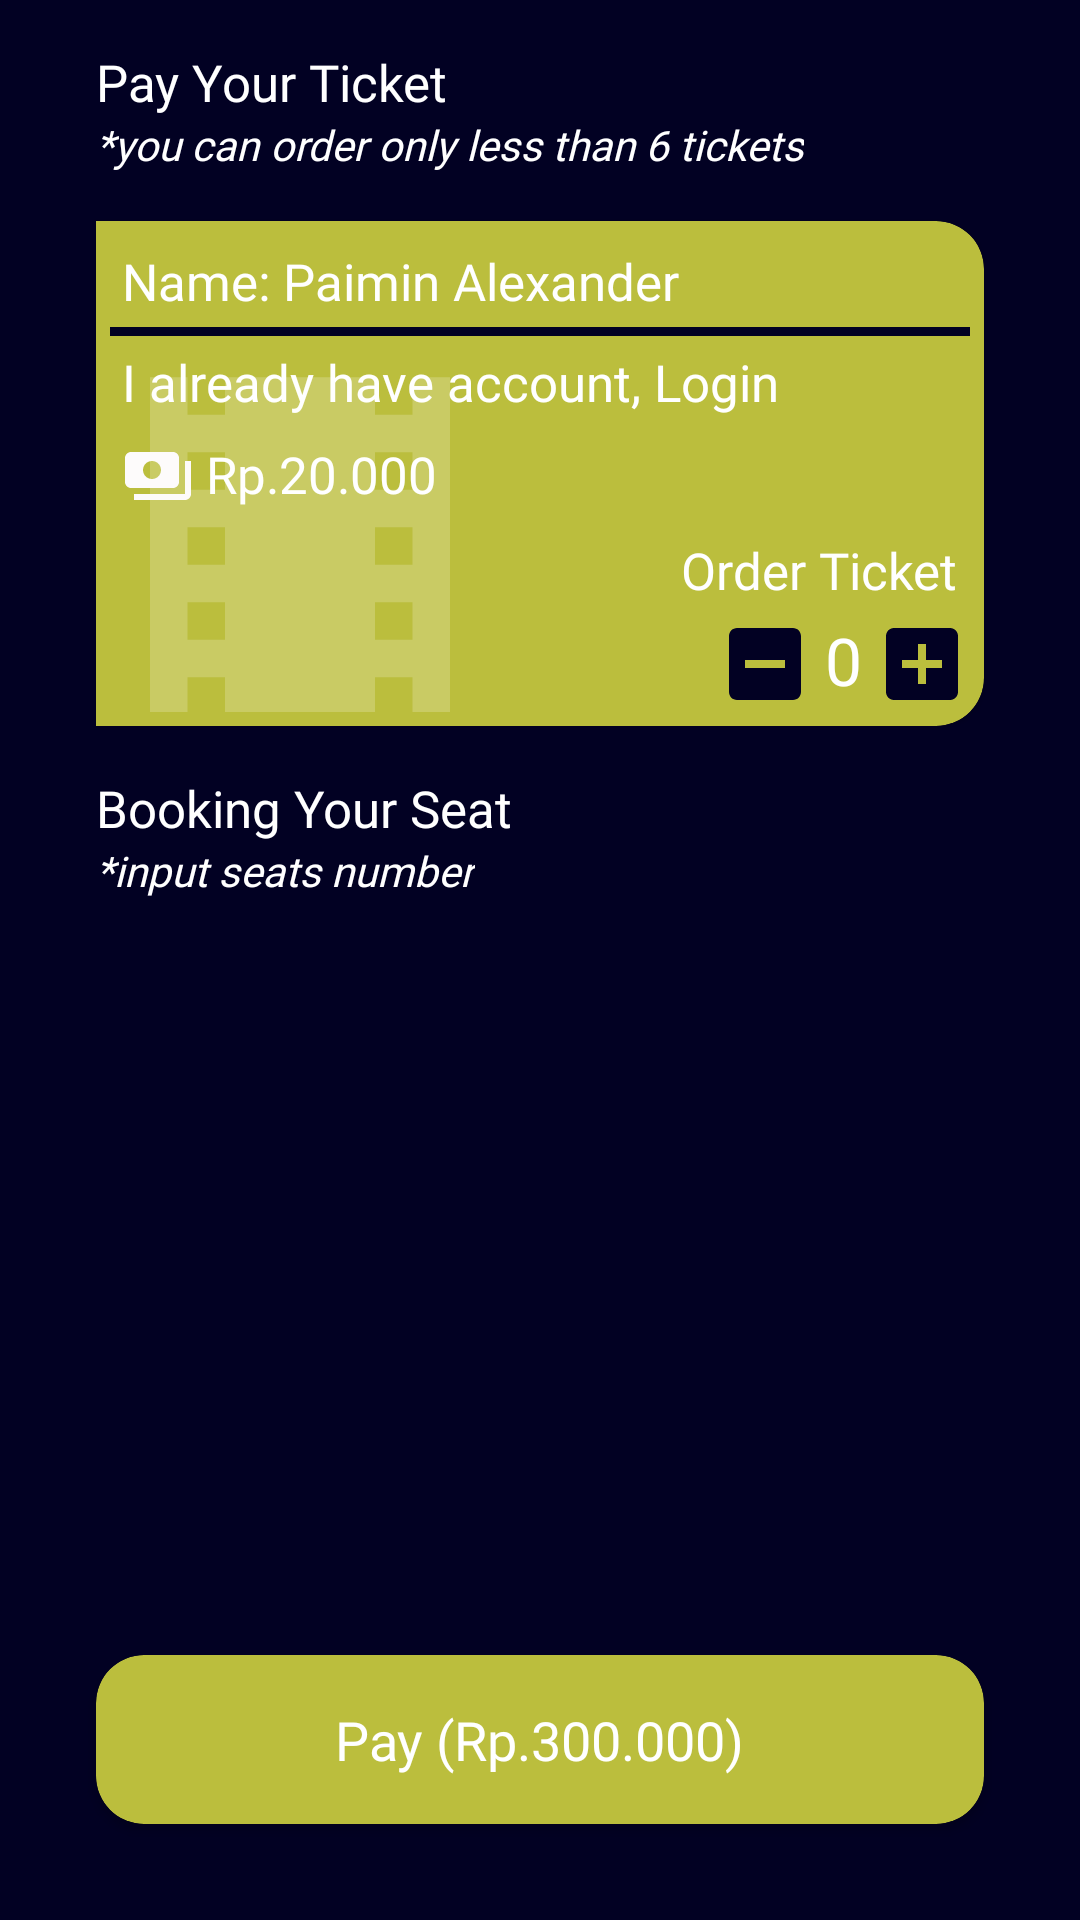

Where to tap for icons on this 1080*1920 app screen, as (x,y):
add: (922,664)
